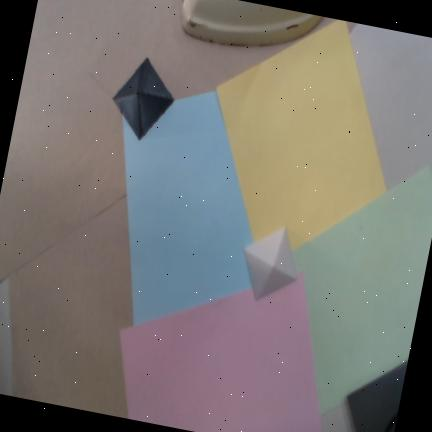Piramide: (112, 57, 175, 142), (243, 227, 297, 300)
